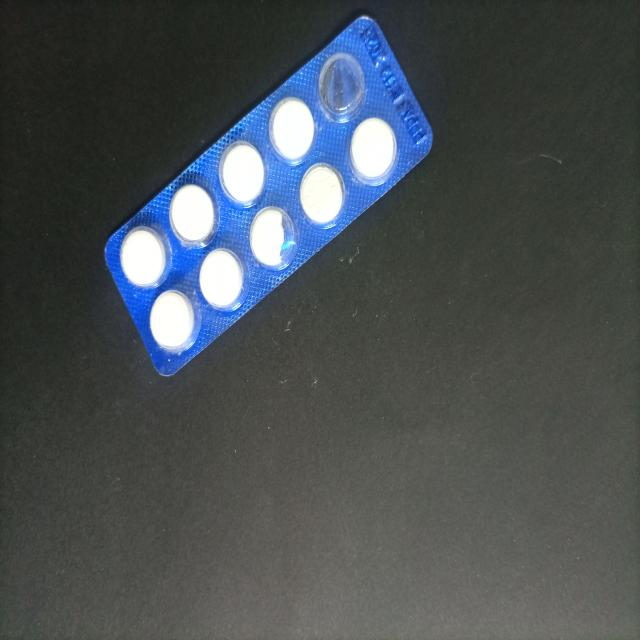defect: (248, 204, 299, 271), (317, 52, 366, 121)
